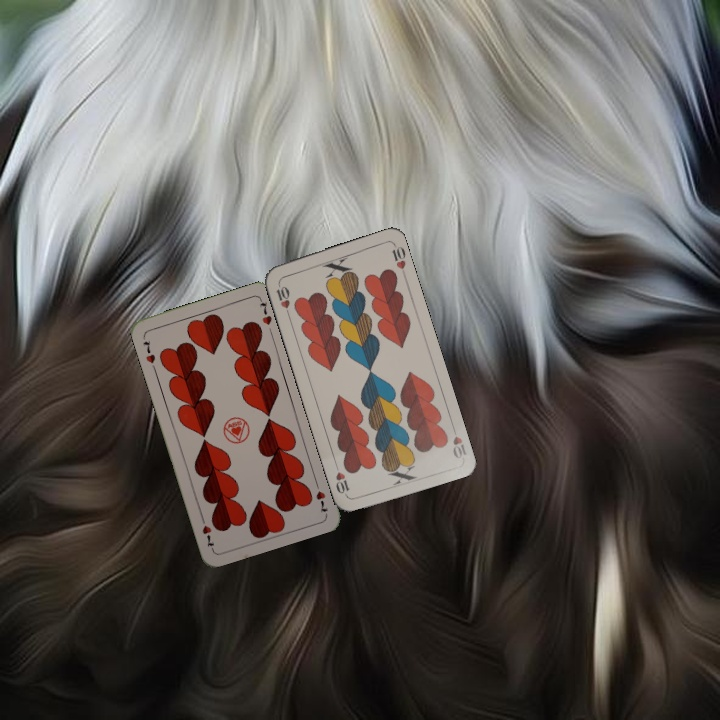H10: (272, 278, 293, 318), (448, 421, 469, 461)
H7: (311, 476, 330, 515), (139, 336, 158, 366)
